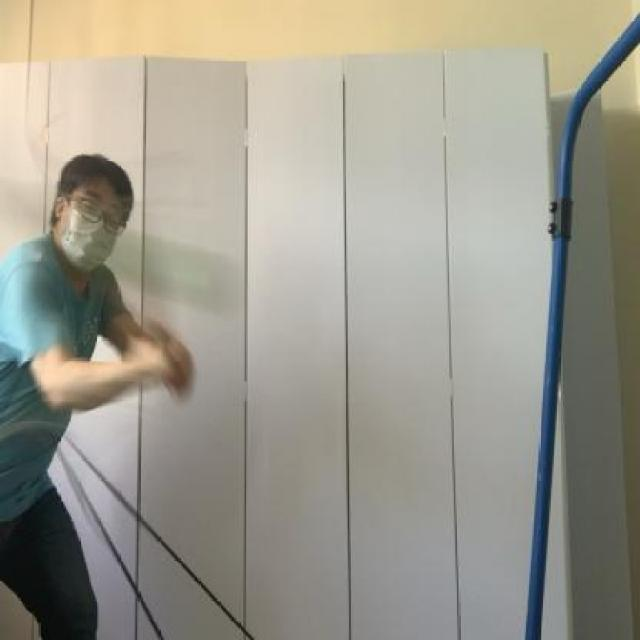baseball: (78, 215, 270, 318)
